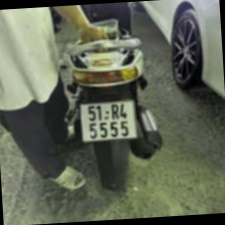Bien-so: (78, 101, 141, 145)
